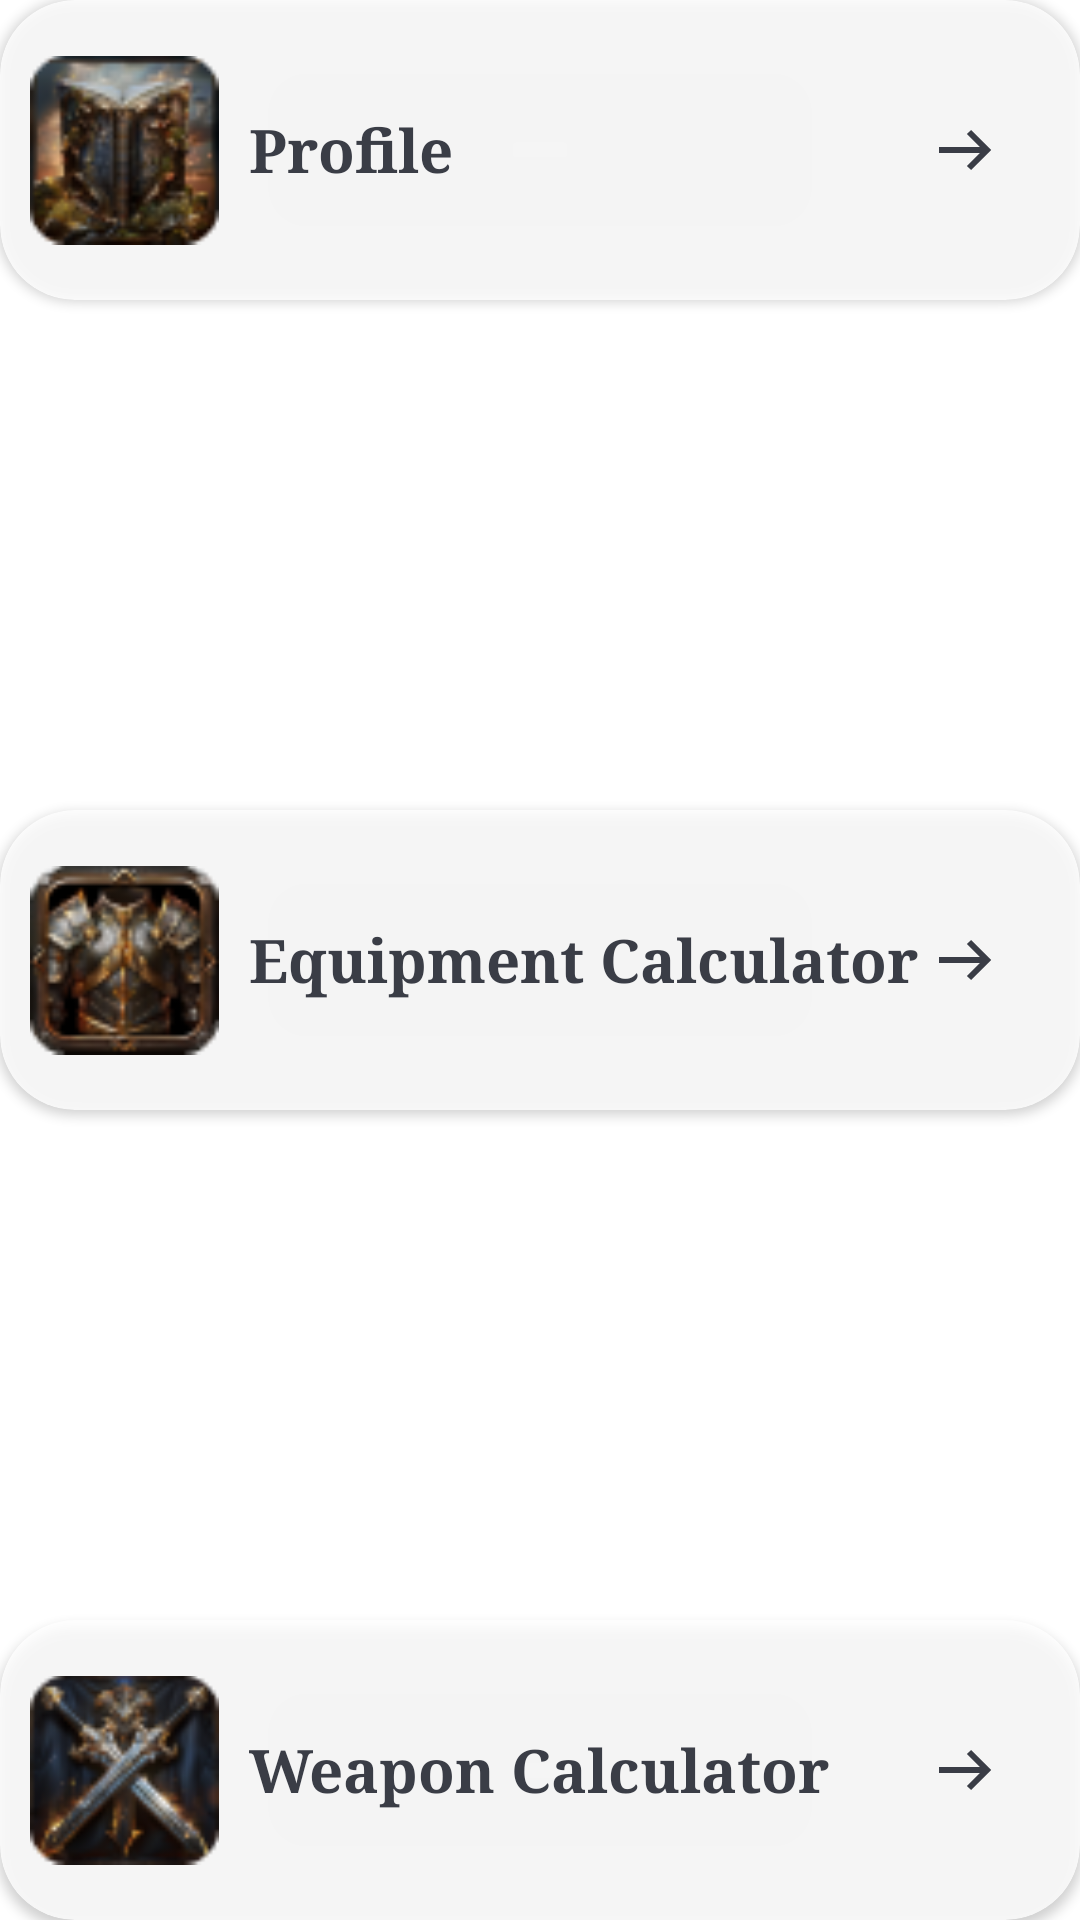

Where icons sit on this 1080px×1920px app screen, as (x1, y1, x2, y2):
next arrow: (939, 130, 991, 170), (939, 940, 991, 980), (939, 1750, 991, 1790)
